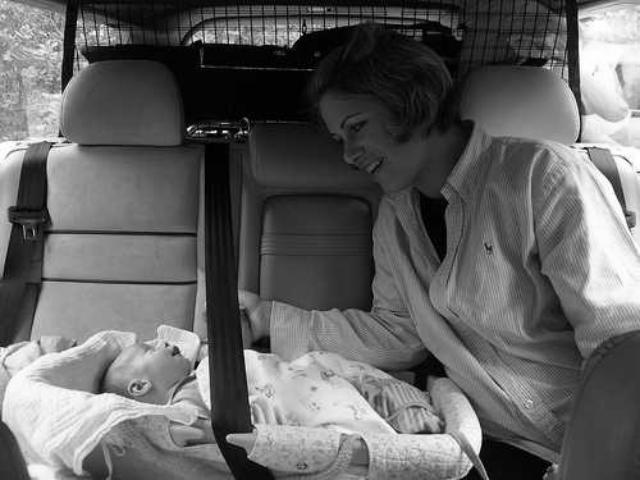SafeDriving: (344, 116, 370, 136)
Seatbelt: (190, 134, 276, 480)
